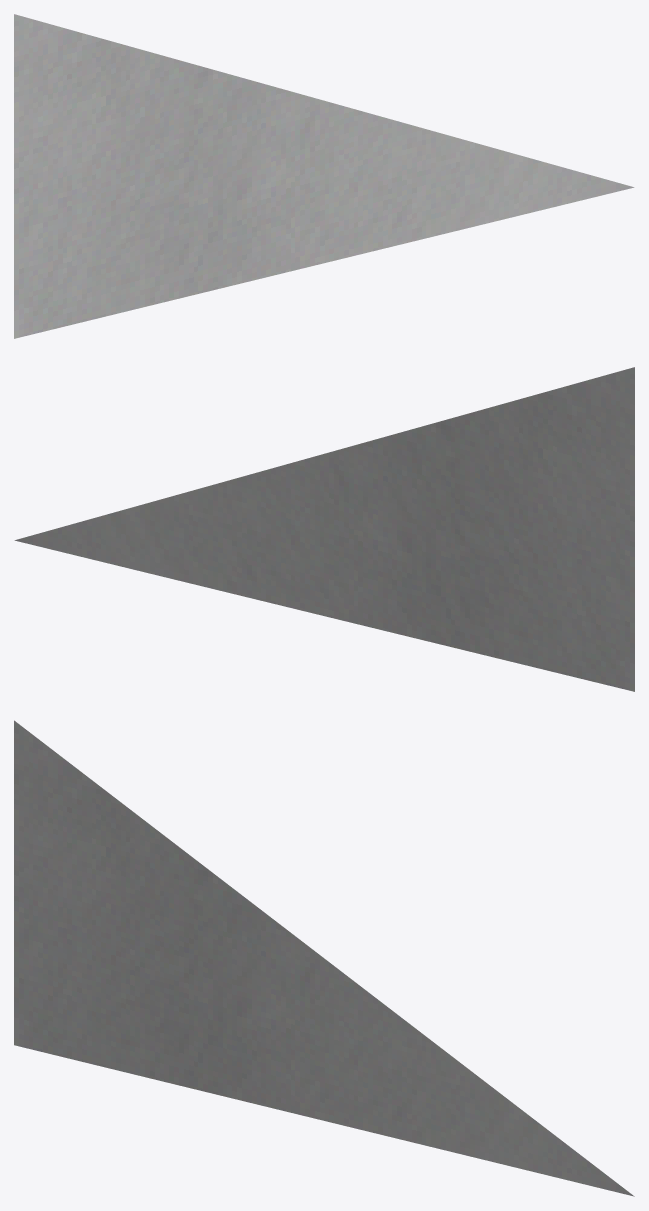
File: house_wall_fill.glb
The picture shows the model from 3 angles, top to bottom: view 1: azimuth 30°, elevation 25°; view 2: azimuth 150°, elevation 25°; view 3: azimuth 330°, elevation 25°; orthographic projection.
Visible parts, largest first — view 1: house_wall_fill; view 2: house_wall_fill; view 3: house_wall_fill.
Part boxes in pixels (left/top/right/bottom): house_wall_fill: left=14, top=14, right=634, bottom=338; house_wall_fill: left=14, top=367, right=634, bottom=691; house_wall_fill: left=14, top=720, right=634, bottom=1196.
Bounding box in the file's own units: 2 × 1 × 0.
1 material, 1 textured.
